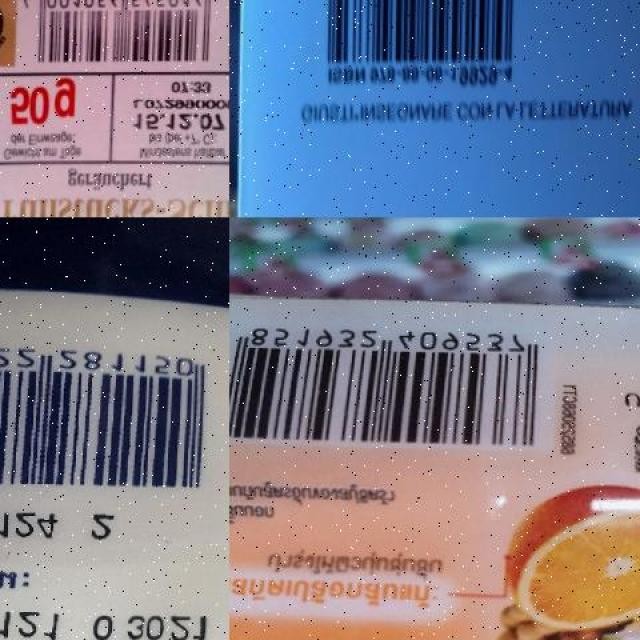Barcode: (229, 309, 559, 452), (0, 337, 221, 497), (296, 0, 535, 92), (15, 0, 229, 68)
